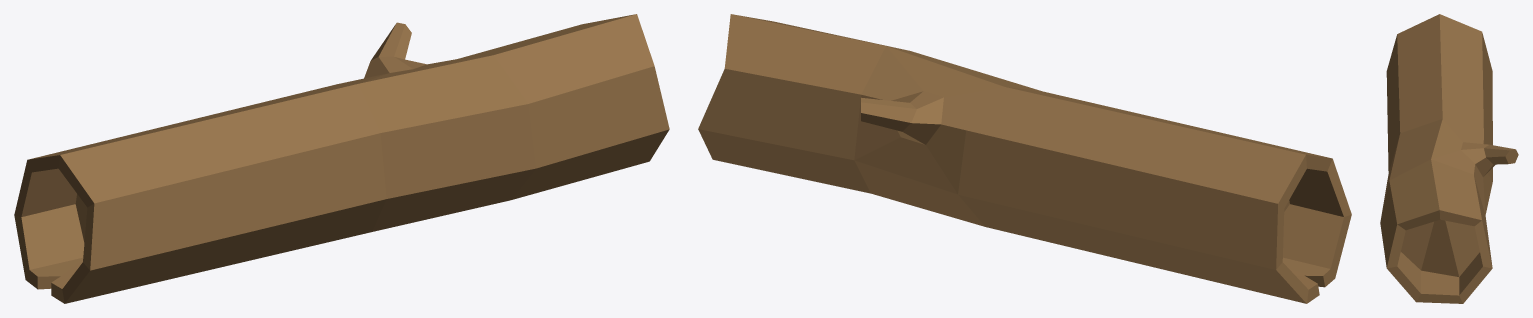
The model's file is tree-trunk.fbx.
3 renders of one model, left to right at view 1: azimuth 30°, elevation 25°; view 2: azimuth 150°, elevation 25°; view 3: azimuth 270°, elevation 25°, orthographic. The views are drawn at different scales.
Visible parts, largest first — view 1: tree-trunk; view 2: tree-trunk; view 3: tree-trunk.
Boxes of the visible parts, x1,y1,x2,y2 form: tree-trunk: (14, 14, 669, 303); tree-trunk: (698, 14, 1351, 303); tree-trunk: (1380, 14, 1518, 303).
Bounding box in the file's own units: 2.41 × 0.6945 × 0.5296.
